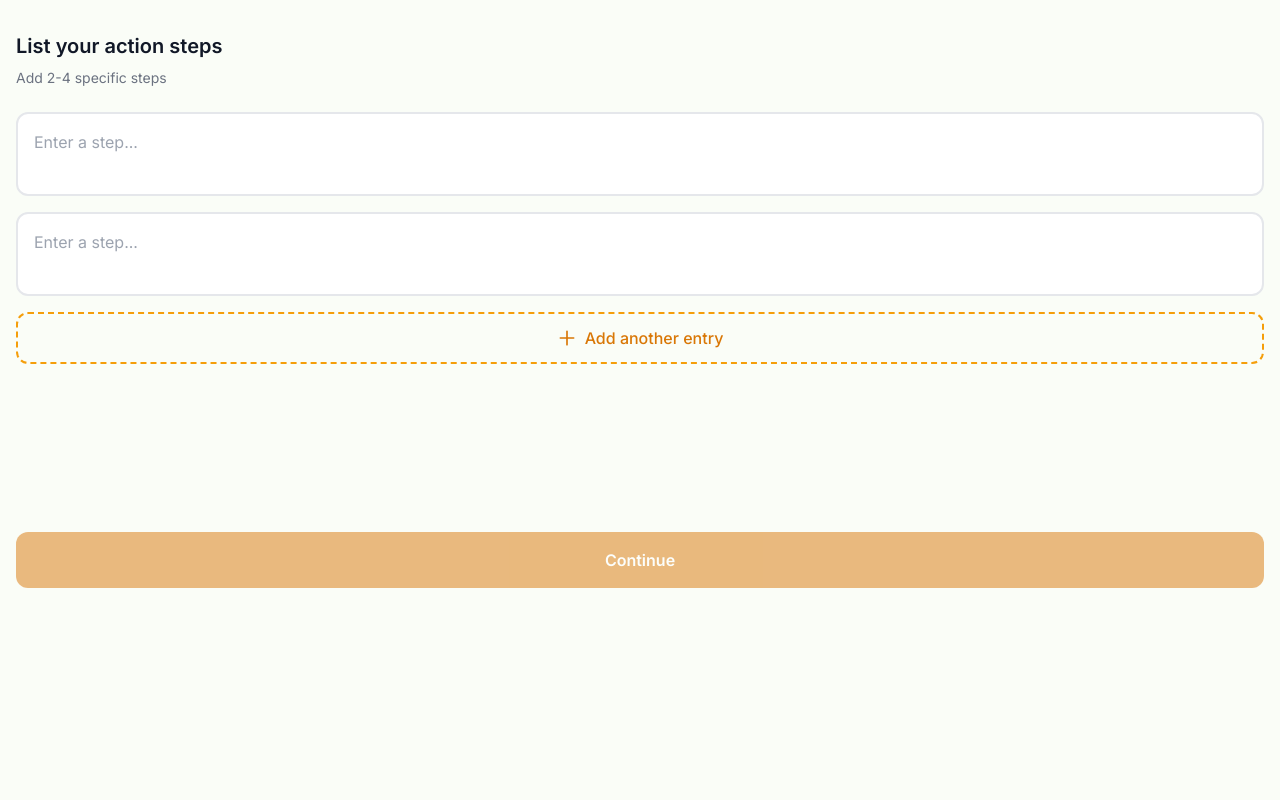
Test: TextInput › multiple inputs mode › hides Add button when max_entries is reached
The width and height of the screenshot is (1280, 800).
// Add entries until max (4)
Click the button "Add another entry".
click(640, 338)  # box [16,312,1264,364]
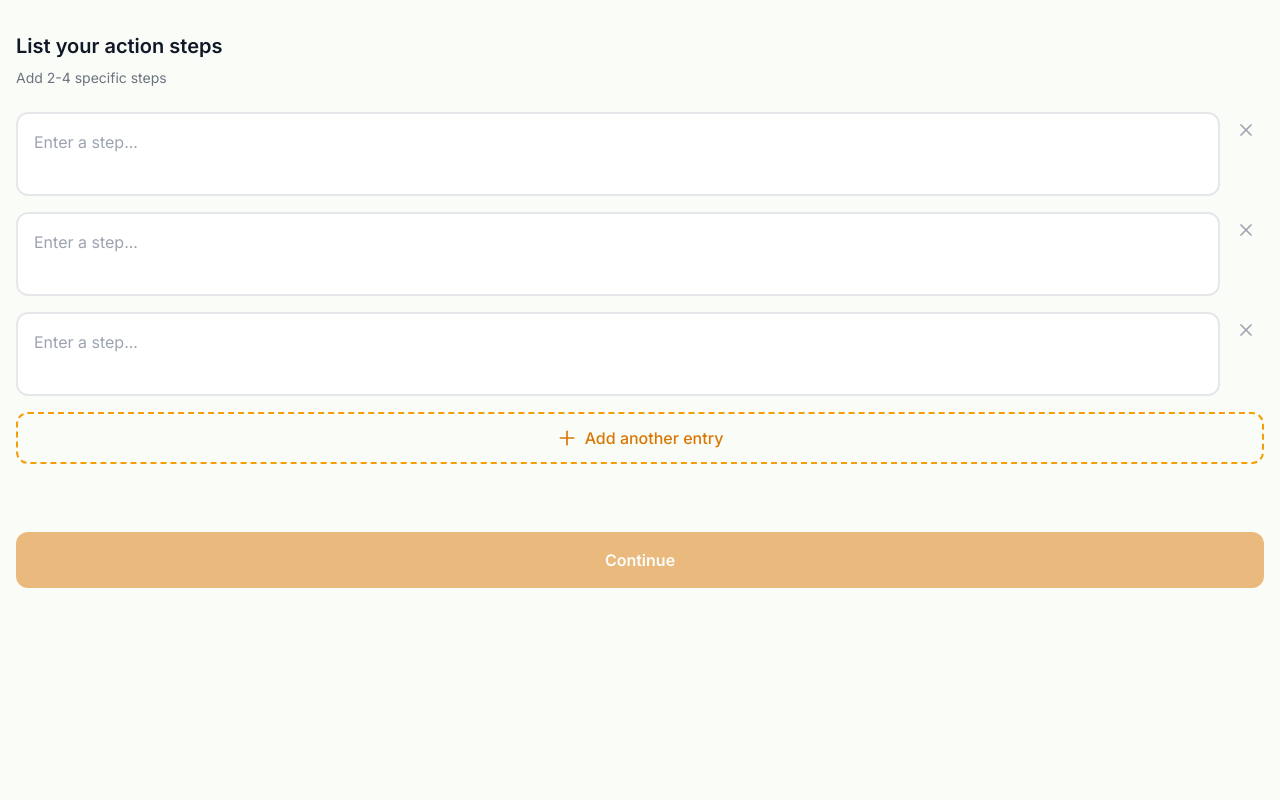
Click the button "Add another entry".
click(640, 438)  # box [16,412,1264,464]
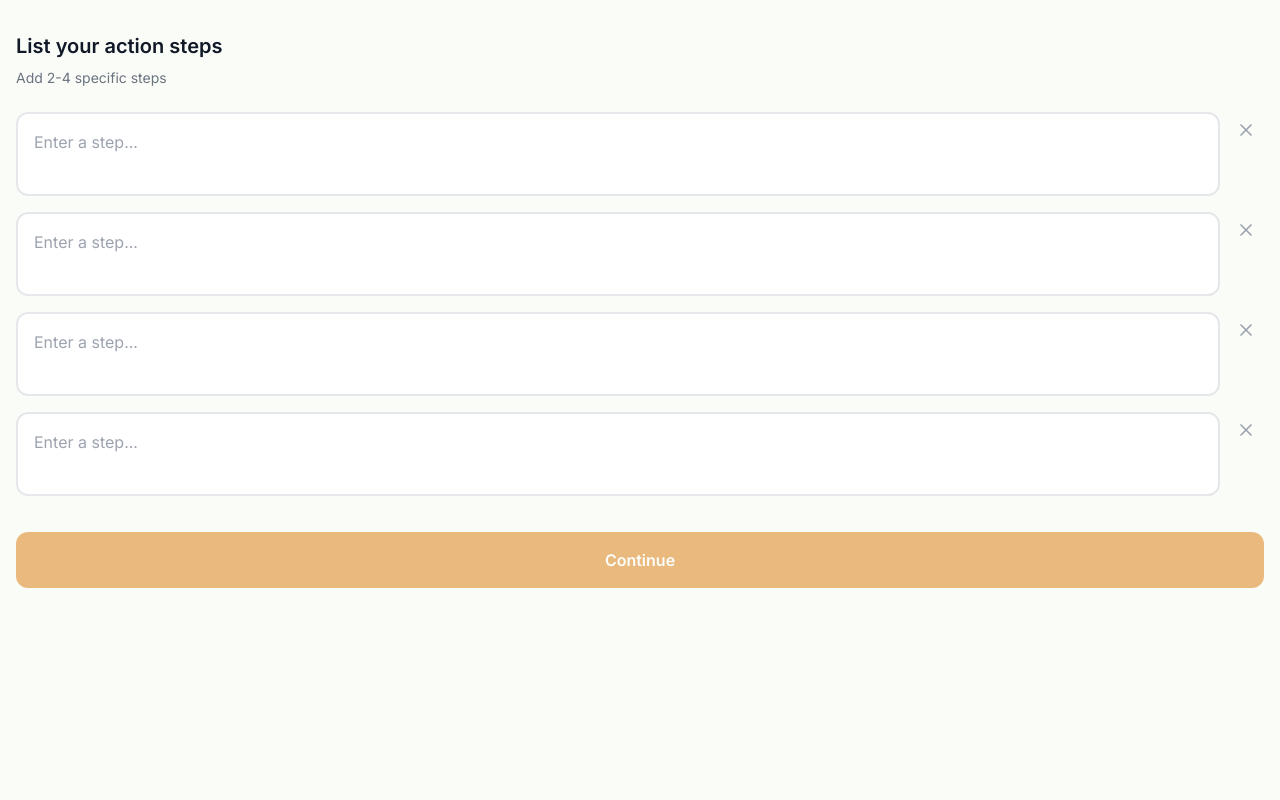
Check: the button "Add another entry" is gone
